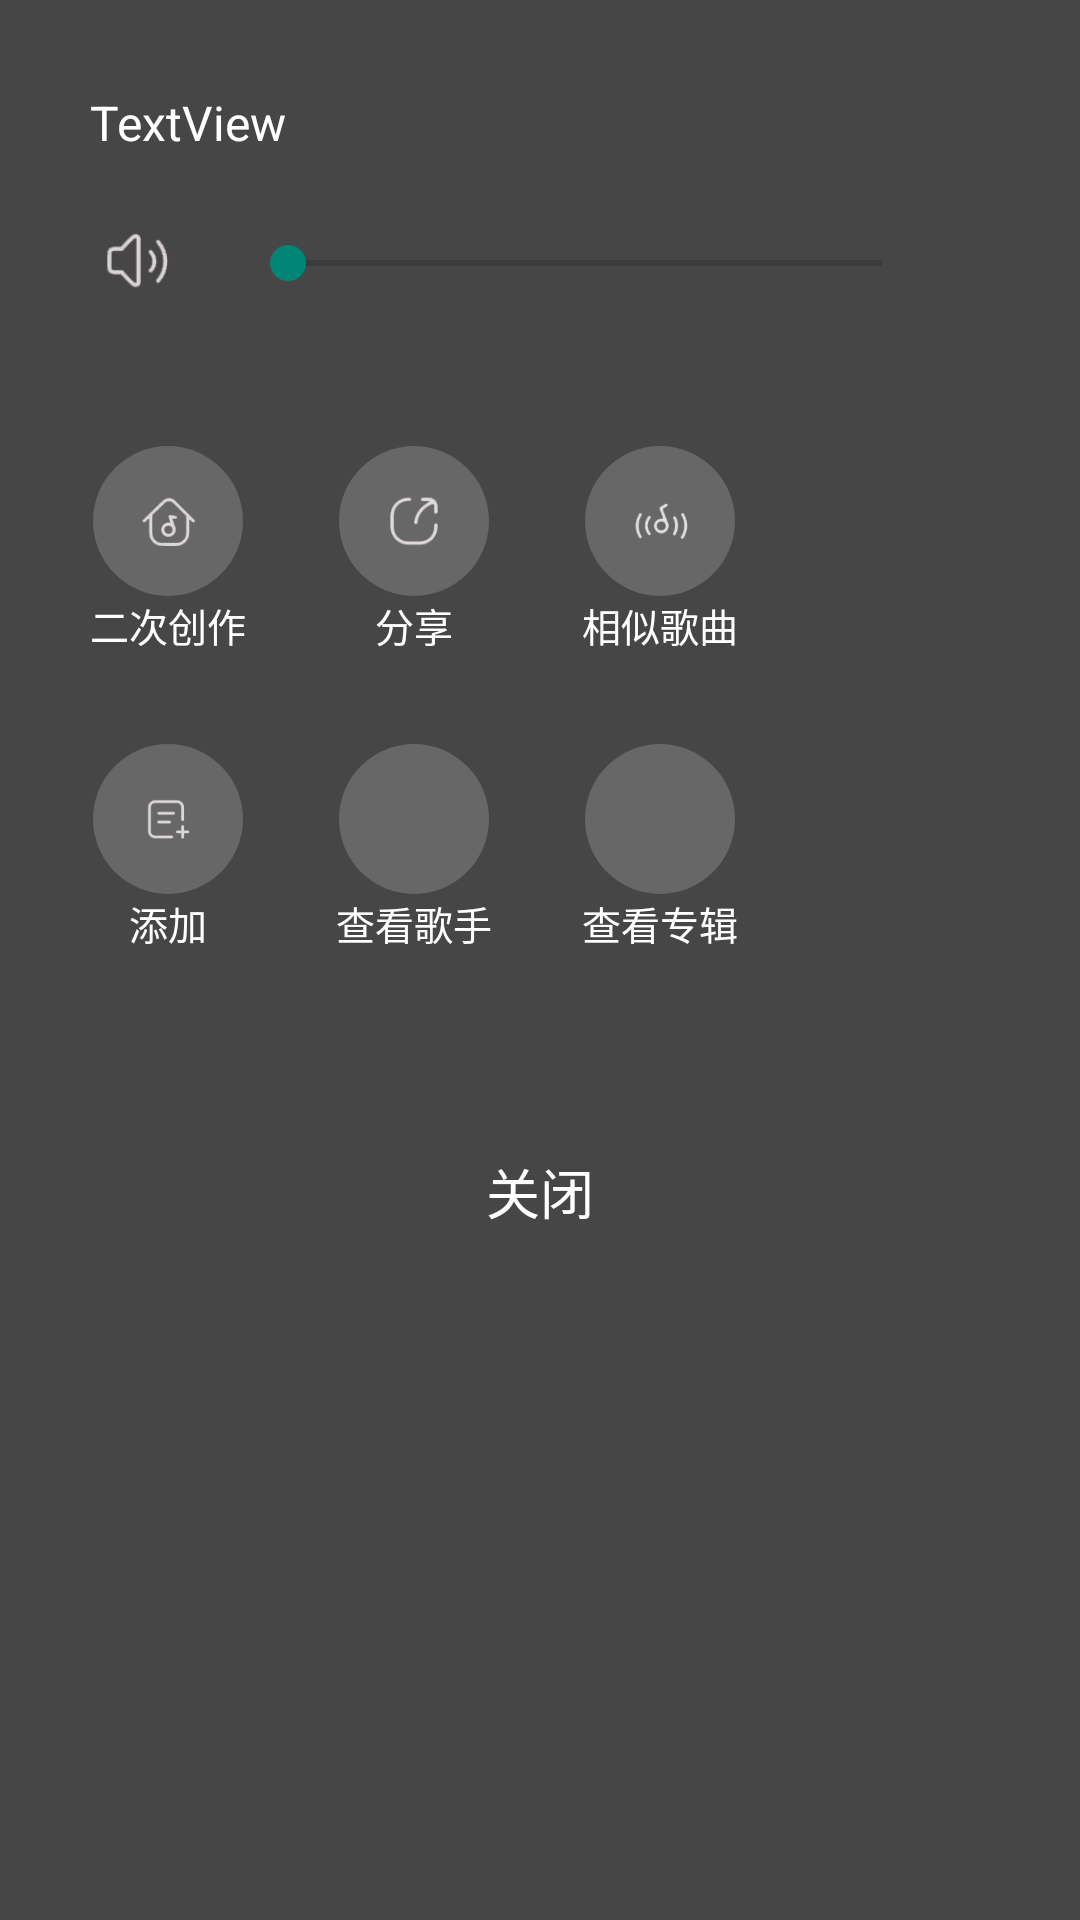

Icons on this 1080w x 1920h Android screen, each with its box as [x1, y1, x2, y2]:
fenxiang: [390, 497, 438, 545]
laba: [107, 233, 168, 288]
tianjia: [148, 800, 190, 839]
xiangsigequ: [635, 504, 688, 539]
